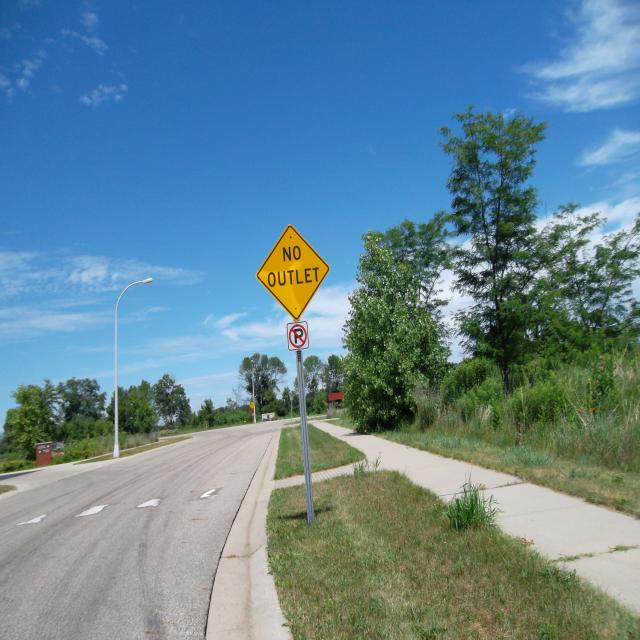regulatory: (286, 319, 310, 355), (290, 396, 293, 400), (252, 413, 254, 416)
warning: (255, 220, 332, 321), (249, 400, 255, 409)
